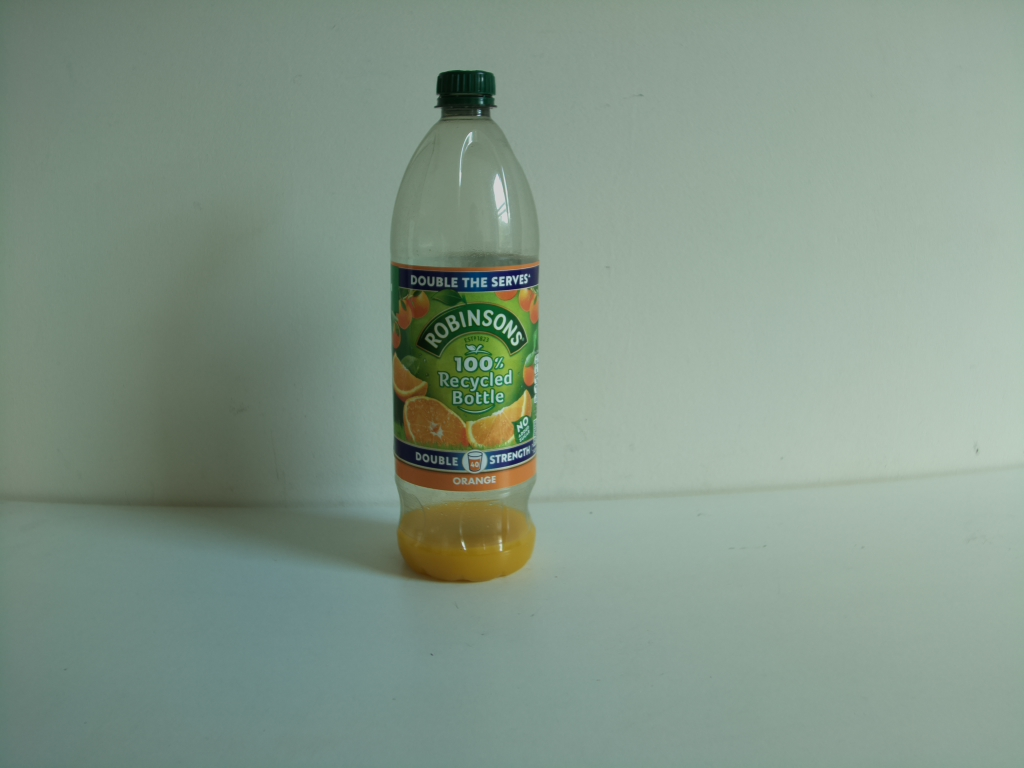juice: (377, 61, 545, 587)
